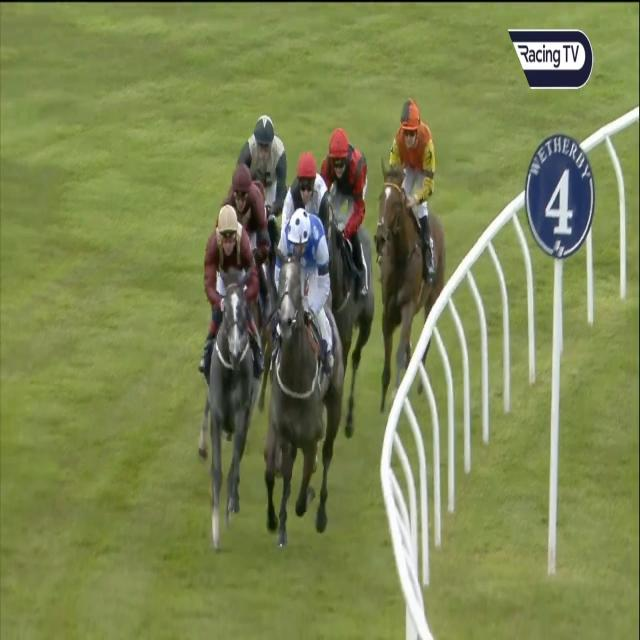horses-racing: (178, 204, 264, 558), (270, 211, 336, 551), (318, 127, 386, 450), (379, 96, 446, 404), (199, 164, 275, 264), (276, 152, 337, 257), (243, 118, 288, 207)
